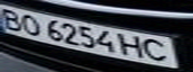2: (57, 20, 81, 47)
4: (93, 28, 118, 54)
5: (78, 24, 96, 49)
6: (42, 17, 63, 43)
B: (0, 6, 27, 31)
C: (139, 36, 175, 63)
H: (118, 33, 148, 58)
O: (18, 11, 45, 37)
